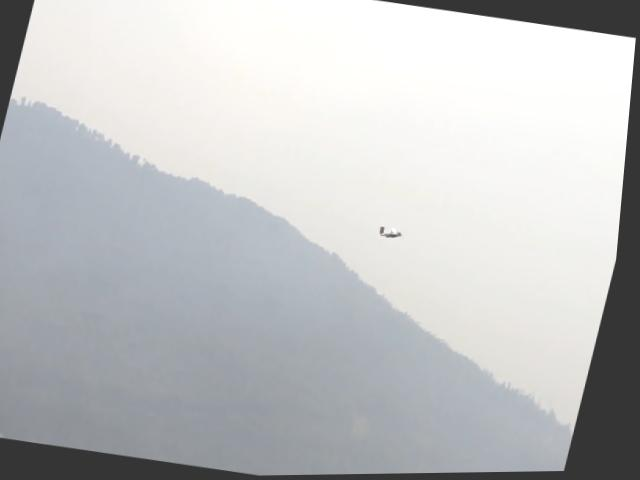plane: (379, 223, 409, 244)
